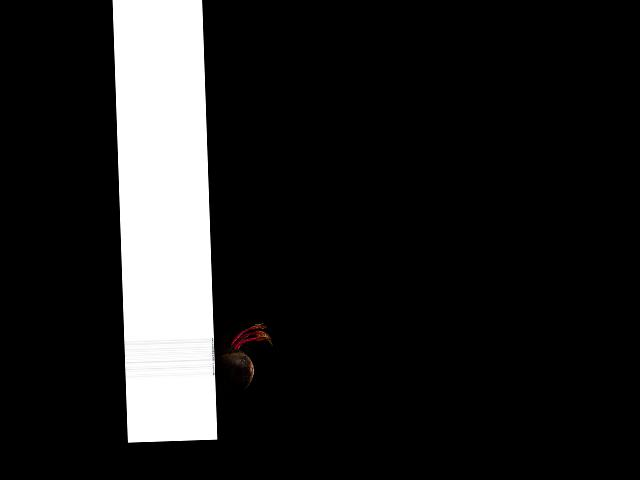beet: (213, 323, 274, 403)
